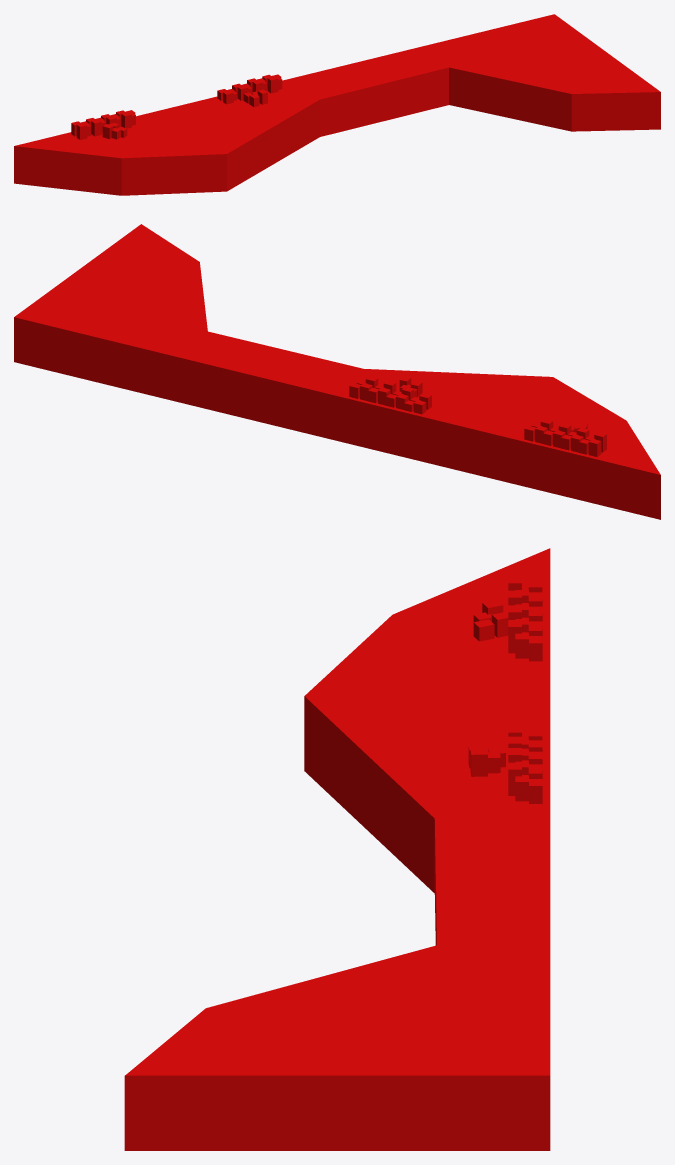
The model's file is red 3.fbx.
The picture shows the model from 3 angles, top to bottom: view 1: azimuth 30°, elevation 25°; view 2: azimuth 150°, elevation 25°; view 3: azimuth 270°, elevation 25°; orthographic projection. The views are drawn at different scales.
Parts seen in each view (by area): view 1: polySurface7; view 2: polySurface7; view 3: polySurface7.
Part boxes in pixels (x1,y1,x2,y2): polySurface7: (14, 14, 660, 195); polySurface7: (14, 224, 660, 519); polySurface7: (124, 548, 550, 1150).
Size of the model in its own units: 450 by 40.21 by 153.
